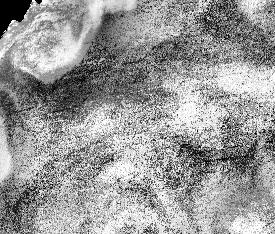AE: (12, 6, 89, 82)
